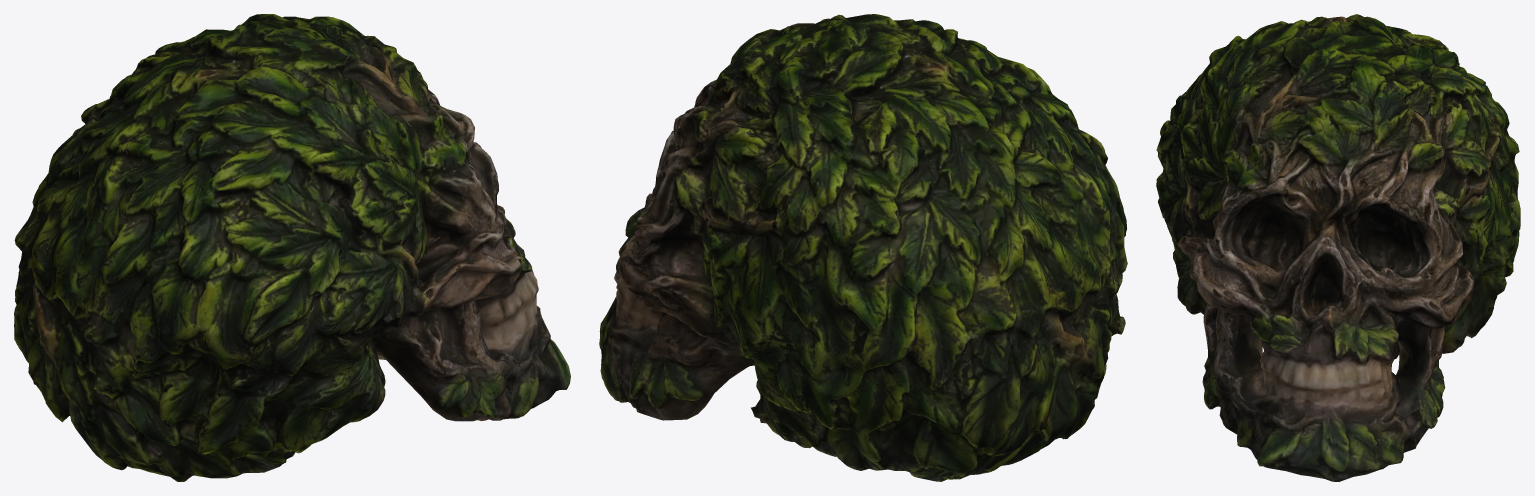
File: skull.glb
3 views of the same model, side by side, from view 1: azimuth 30°, elevation 25°; view 2: azimuth 150°, elevation 25°; view 3: azimuth 270°, elevation 25° (orthographic). The views are drawn at different scales.
Parts seen in each view (by area): view 1: Object_2; view 2: Object_2; view 3: Object_2.
Part boxes in pixels (x1,y1,x2,y2): Object_2: (14,14,570,481); Object_2: (599,14,1127,481); Object_2: (1156,14,1520,481).
Size of the model in its own units: 9.87 by 7.71 by 7.34.
Materials: 1 (1 with a texture image).
